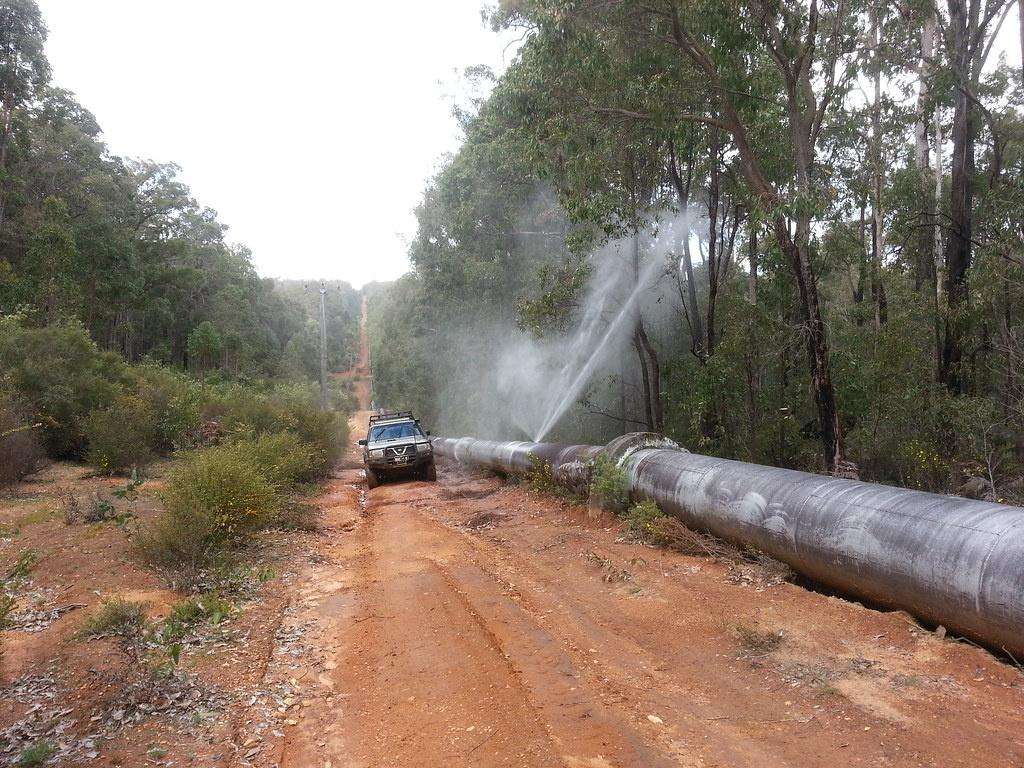pipe burst: (474, 208, 705, 447)
